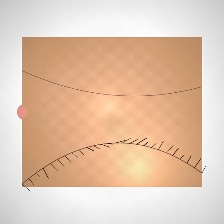pterygium_lesion: (158, 95, 201, 129)
